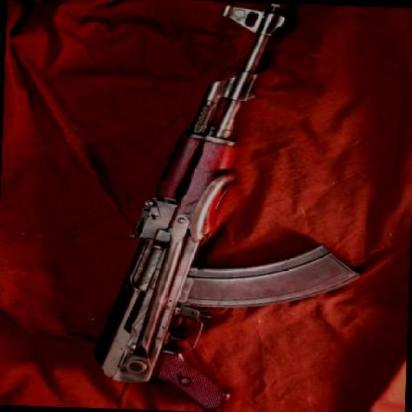Gun: (73, 0, 386, 412)
